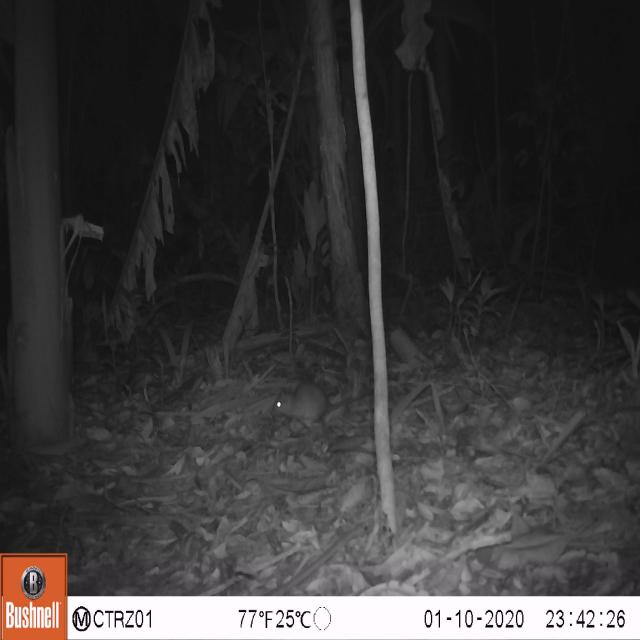Rodent: (267, 366, 342, 446)
